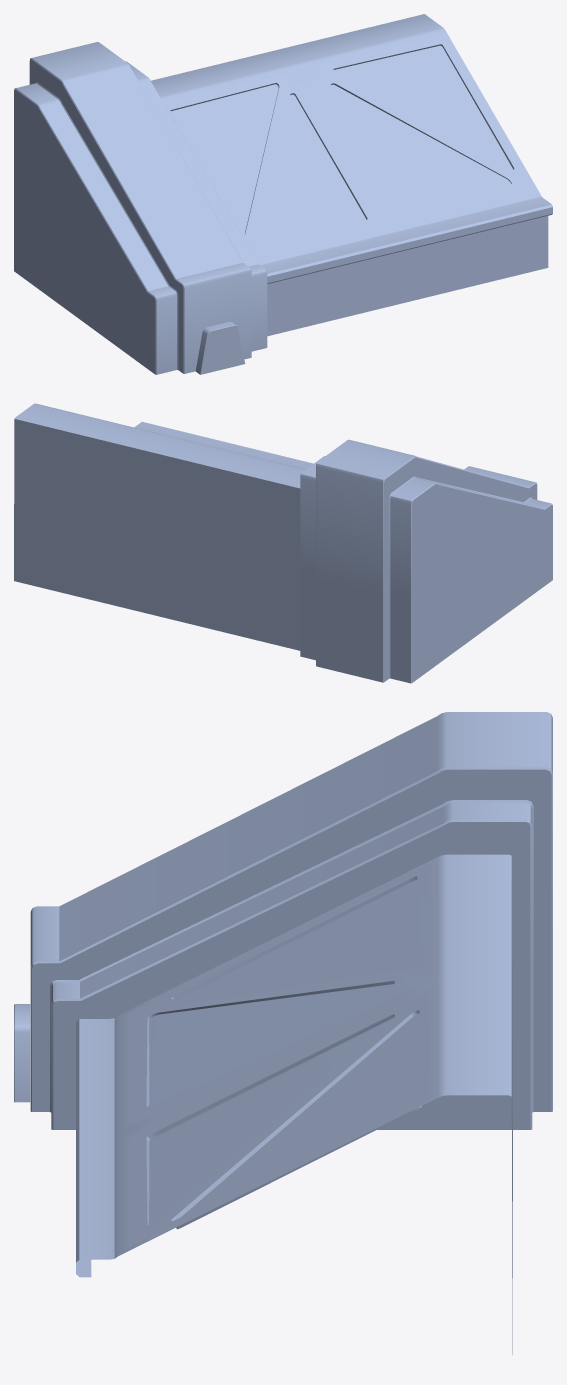
File: Barriere_01_LP.fbx
The picture shows the model from 3 angles, top to bottom: view 1: azimuth 30°, elevation 25°; view 2: azimuth 150°, elevation 25°; view 3: azimuth 270°, elevation 25°; orthographic projection. The views are drawn at different scales.
Visible parts, largest first — view 1: PilierBarriere01_low, Barriere01_low, Barriere01Verre_low, Pilier2Barriere01_low; view 2: Barriere01_low, PilierBarriere01_low; view 3: PilierBarriere01_low, Barriere01_low, Barriere01Verre_low, Pilier2Barriere01_low.
Boxes of the visible parts, box(x1,y1,x2,y2) form: PilierBarriere01_low: box(14, 42, 267, 374); Barriere01_low: box(151, 14, 552, 336); Barriere01Verre_low: box(170, 45, 513, 245); Pilier2Barriere01_low: box(195, 321, 245, 374); Barriere01_low: box(14, 403, 313, 650); PilierBarriere01_low: box(300, 439, 552, 683); PilierBarriere01_low: box(30, 712, 552, 1129); Barriere01_low: box(76, 854, 512, 1354); Barriere01Verre_low: box(149, 880, 419, 1224); Pilier2Barriere01_low: box(14, 1004, 30, 1102).
Size of the model in its own units: 4.15 by 2 by 2.84.
